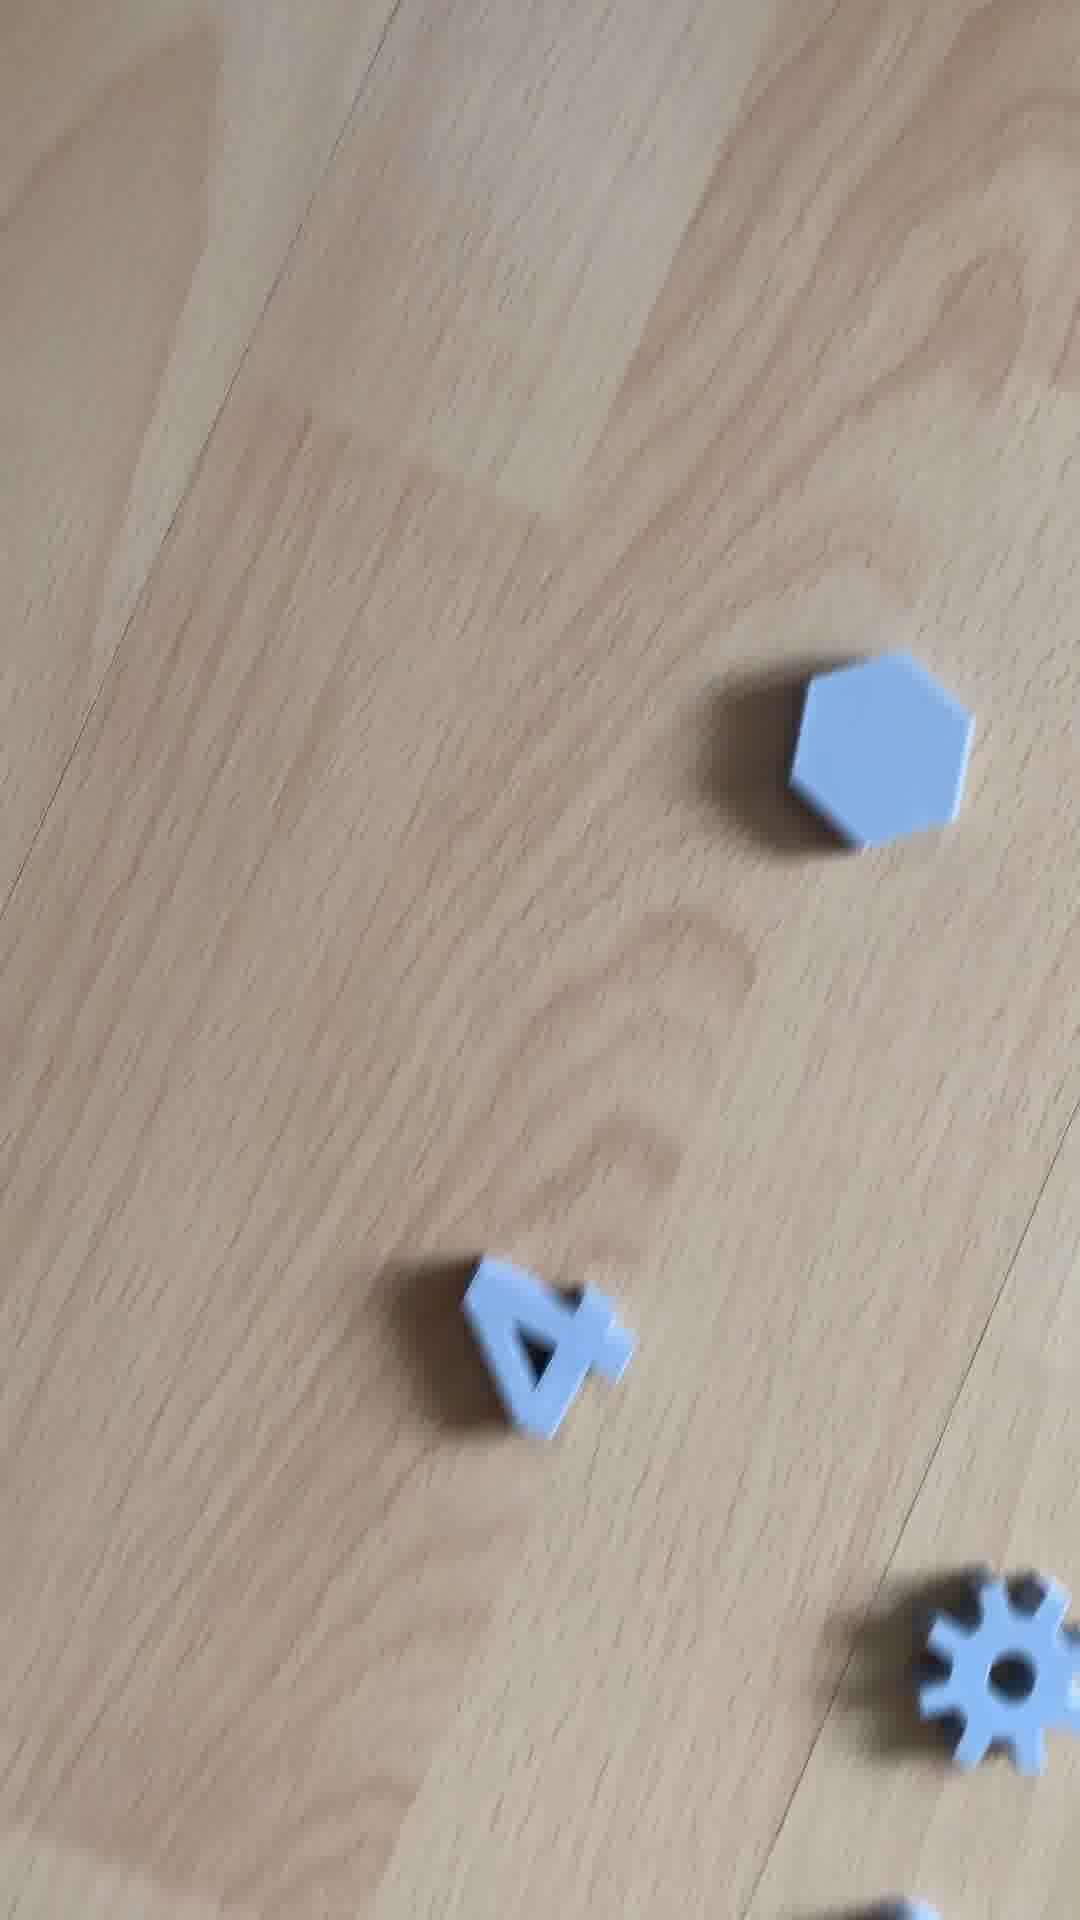Gray four: (443, 1240, 647, 1448)
Gray gear: (906, 1581, 1080, 1785)
Gray hexagon: (787, 651, 967, 856)
